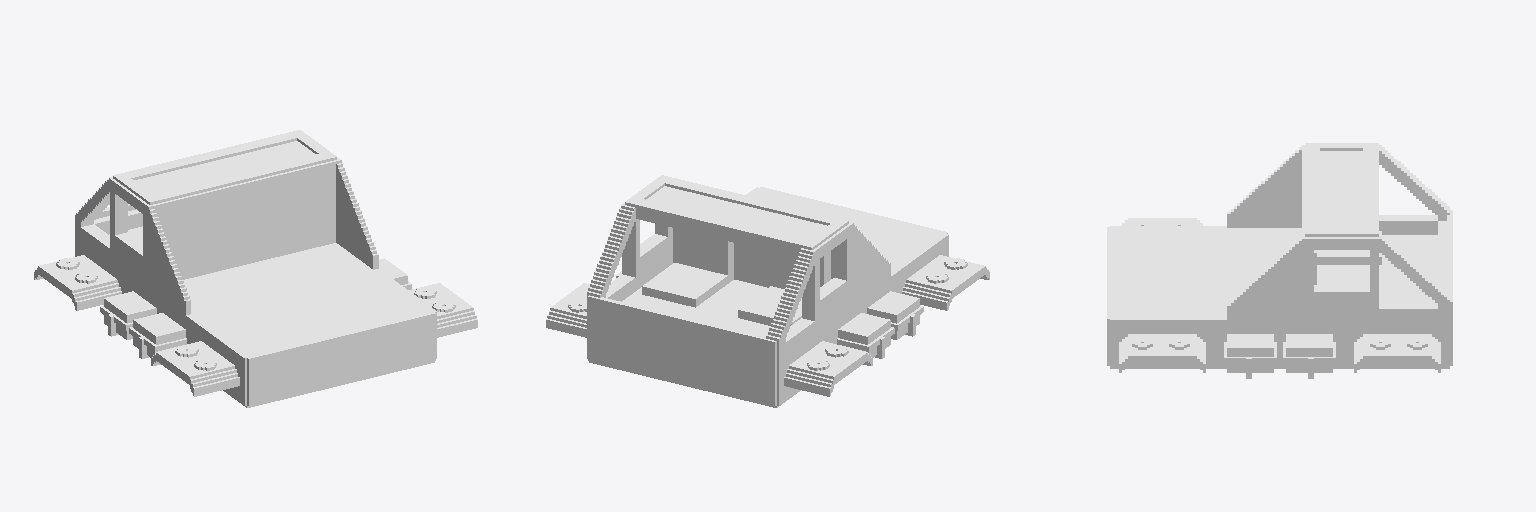
The model's file is Rover-6-Rover.obj.
3 renders of one model, left to right at view 1: azimuth 30°, elevation 25°; view 2: azimuth 150°, elevation 25°; view 3: azimuth 270°, elevation 25°, orthographic.
Visible parts, largest first — view 1: Rover; view 2: Rover; view 3: Rover.
Part boxes in pixels (bbox=[...]): Rover: bbox=[34, 130, 477, 407]; Rover: bbox=[546, 175, 989, 407]; Rover: bbox=[1107, 143, 1452, 378].
Size of the model in its own units: 10.6 by 4.8 by 11.2.